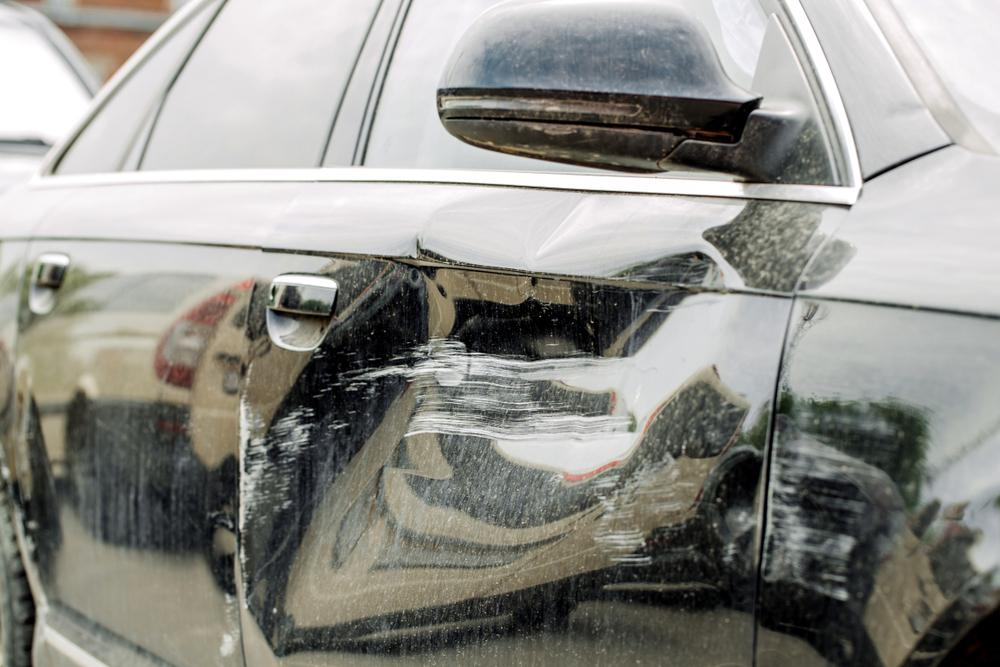dent: (235, 188, 774, 638)
scratch: (761, 416, 874, 598)
